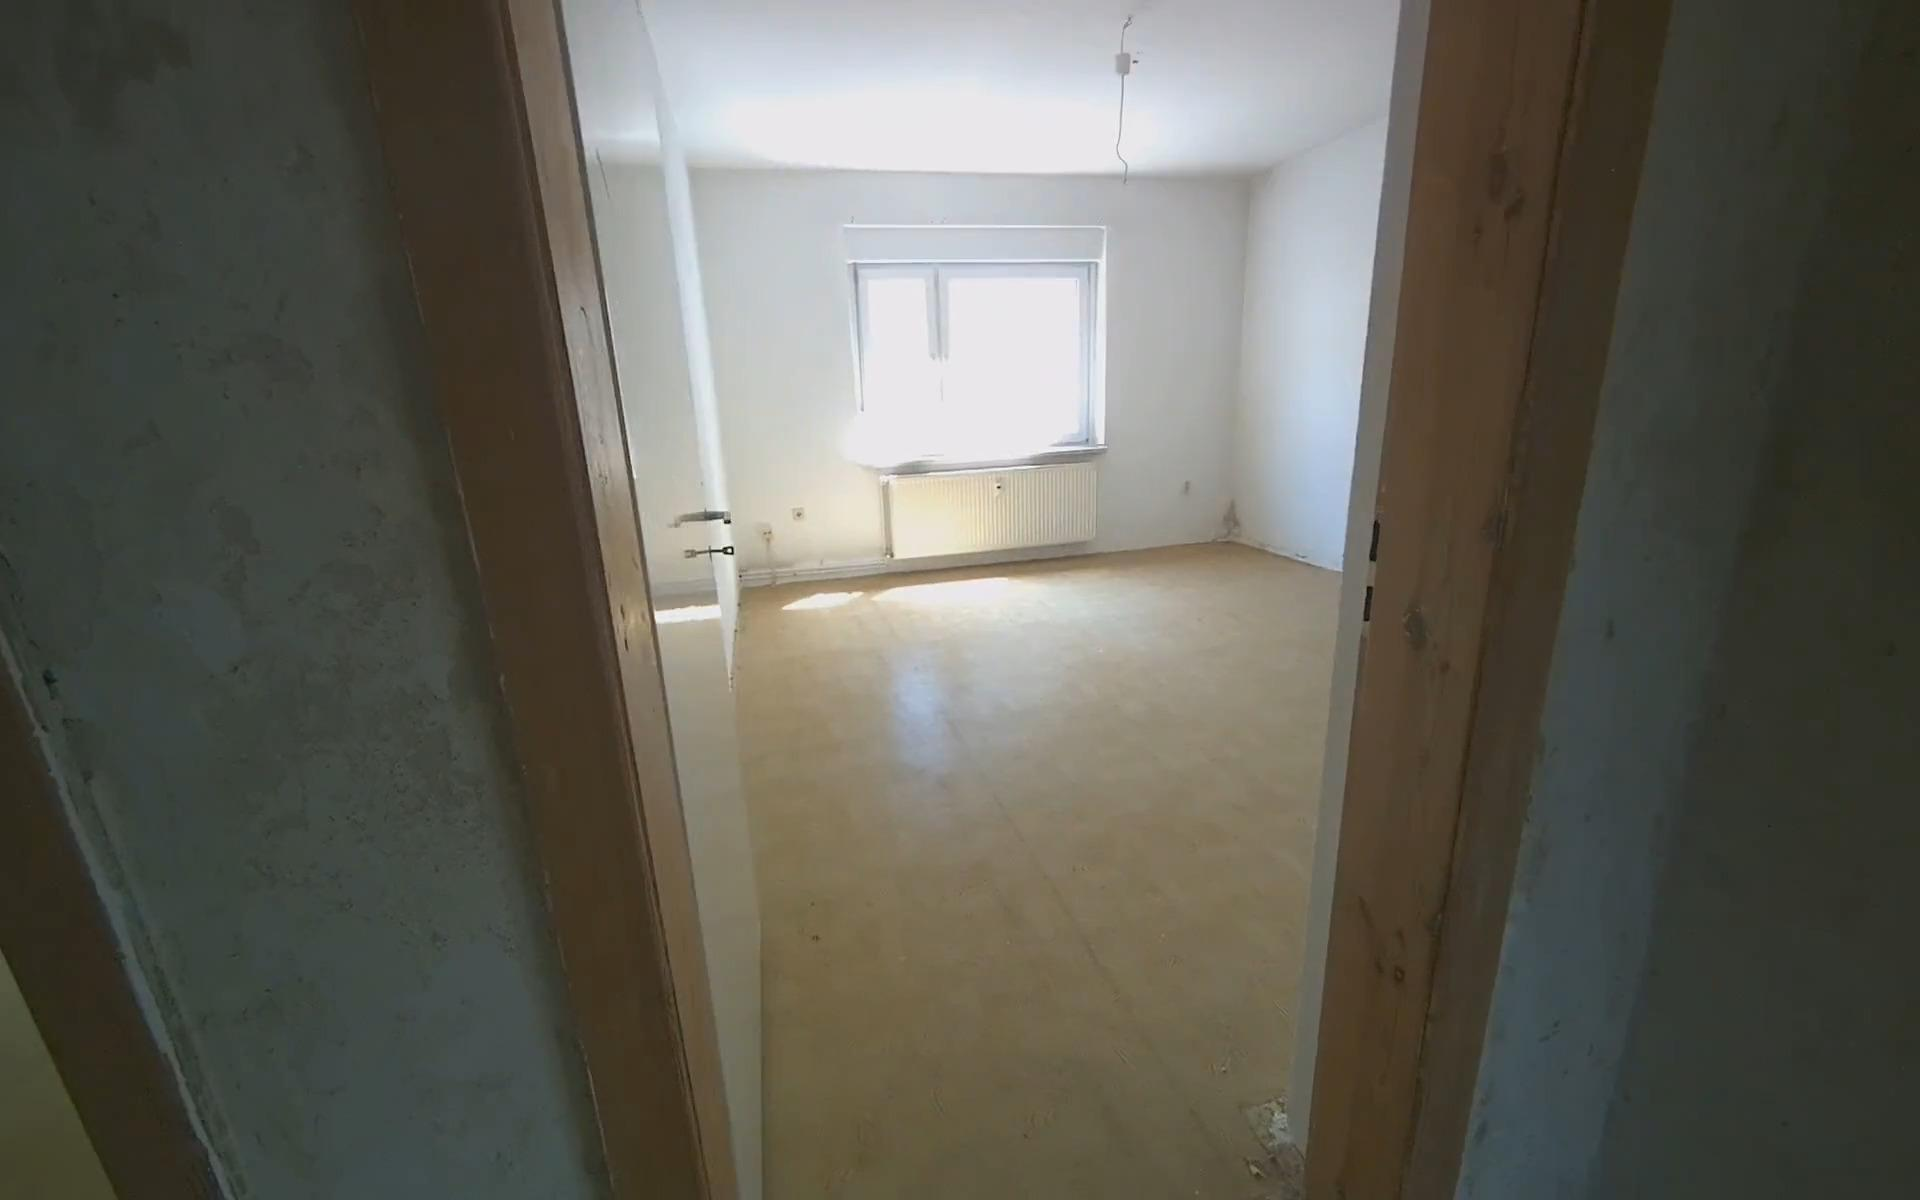doors: (362, 0, 1671, 1200), (0, 0, 246, 1199)
radiator: (881, 455, 1100, 570)
window: (850, 254, 1100, 456)
